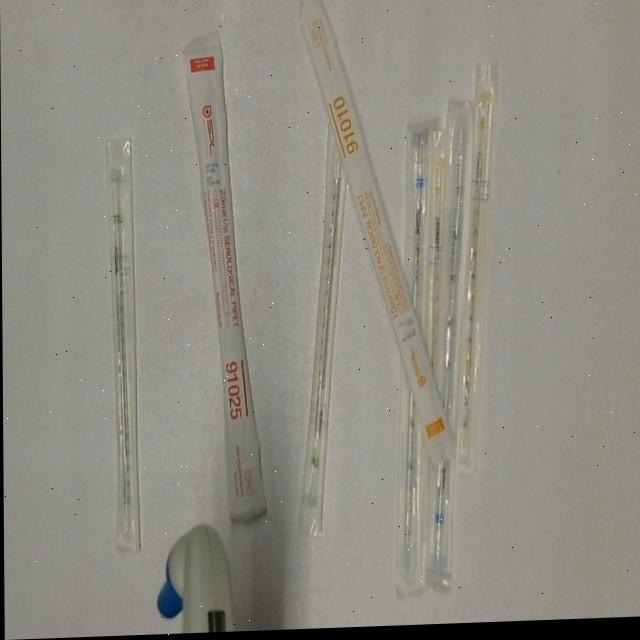Pipette Controller: (152, 521, 237, 636)
Serelogical Pipet 1 mL - Sealed: (452, 59, 507, 479), (418, 125, 451, 373)
Serelogical Pipet 10 mL - Sealed: (296, 0, 457, 473)
Serelogical Pipet 2 mL - Sealed: (290, 118, 356, 542), (102, 131, 144, 556)
Serelogical Pipet 25 mL - Sealed: (182, 31, 272, 528)
Serelogical Pipet 5 mL - Sealed: (421, 101, 480, 580), (389, 115, 439, 600)
